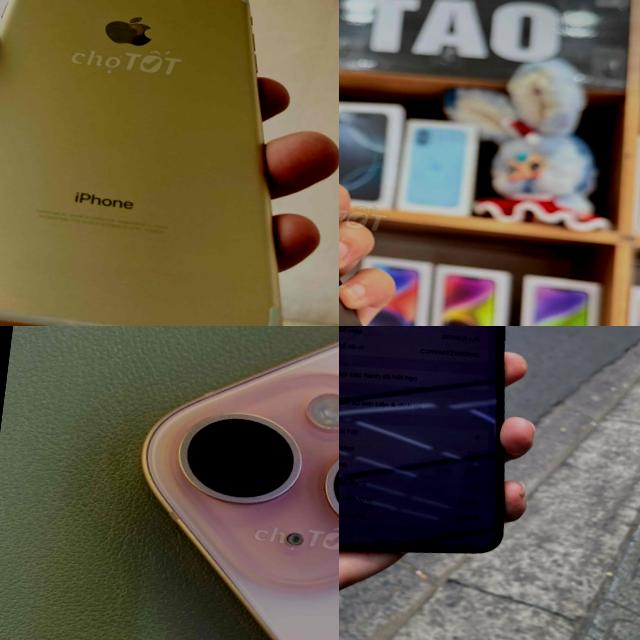screen_defect: (352, 383, 393, 416), (339, 326, 396, 349), (392, 530, 436, 554), (346, 461, 374, 494), (428, 446, 458, 476), (373, 462, 405, 488), (424, 377, 452, 406), (396, 380, 424, 406), (404, 456, 430, 484), (436, 526, 466, 550), (452, 374, 477, 402), (457, 444, 483, 469), (467, 524, 498, 544), (475, 372, 503, 394), (396, 326, 447, 338), (339, 382, 352, 418), (482, 443, 503, 465), (339, 459, 348, 492)
